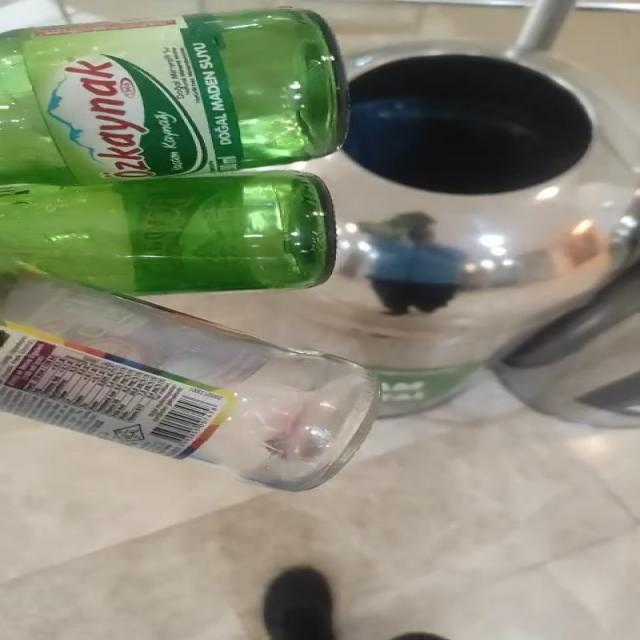glass: (1, 8, 379, 491)
